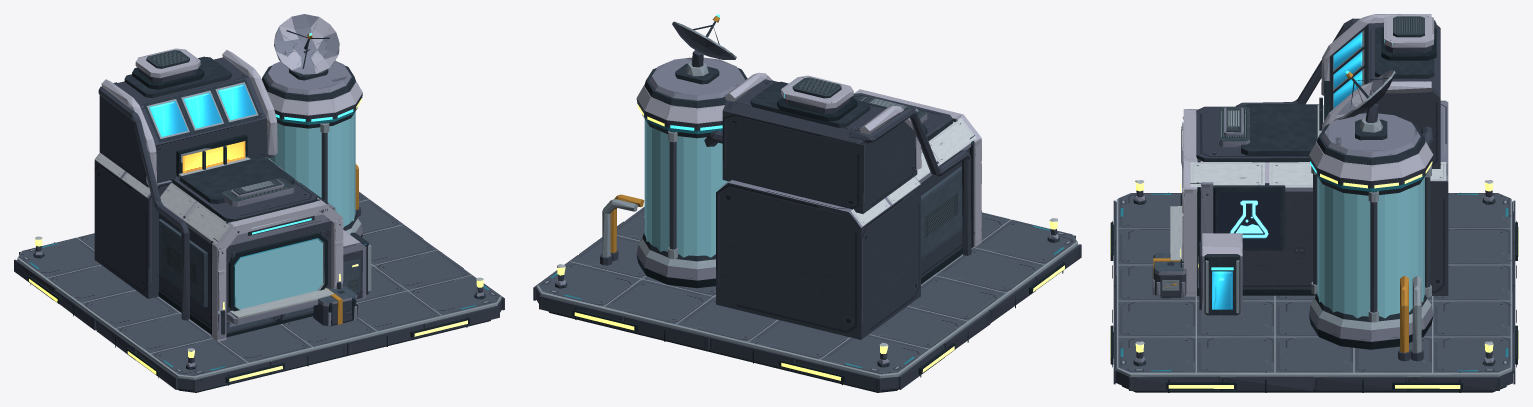
Rendered from LB03_LaboratorioAvanzado_Distancia.fbx.
The picture shows the model from 3 angles, left to right: view 1: azimuth 30°, elevation 25°; view 2: azimuth 150°, elevation 25°; view 3: azimuth 270°, elevation 25°; orthographic projection. The views are drawn at different scales.
Parts seen in each view (by area): view 1: EstructuraDistante_3, VidriosDistantes_3; view 2: EstructuraDistante_3, VidriosDistantes_3; view 3: EstructuraDistante_3, VidriosDistantes_3.
Boxes of the visible parts, bbox=[...] form: EstructuraDistante_3: bbox=[14, 14, 504, 392]; VidriosDistantes_3: bbox=[235, 111, 355, 309]; EstructuraDistante_3: bbox=[533, 14, 1081, 392]; VidriosDistantes_3: bbox=[644, 119, 728, 257]; EstructuraDistante_3: bbox=[1110, 14, 1518, 392]; VidriosDistantes_3: bbox=[1317, 176, 1424, 318].
Size of the model in its own units: 7.01 by 4.77 by 6.49.
